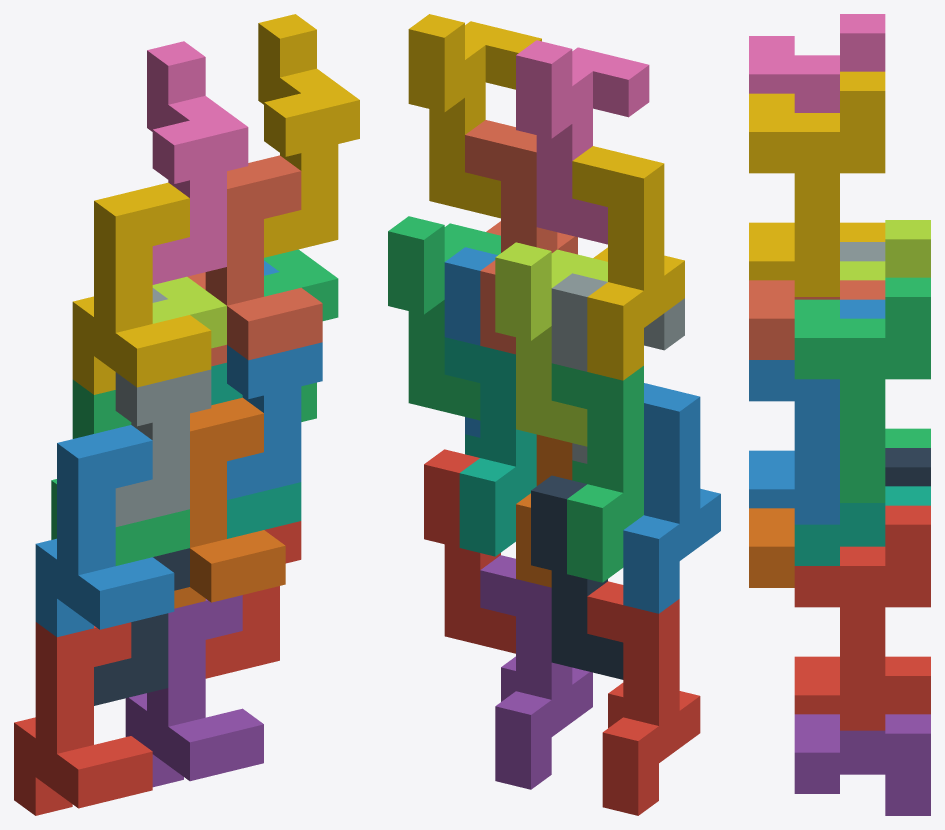
The model's file is tiling.obj.
3 views of the same model, side by side, from view 1: azimuth 30°, elevation 25°; view 2: azimuth 150°, elevation 25°; view 3: azimuth 270°, elevation 25° (orthographic). The views are drawn at different scales.
Visible parts, largest first — view 1: copy_1_domain_2, copy_1_domain_4, copy_1_domain_1, copy_2_domain_8, copy_2_domain_4, copy_1_domain_5, copy_1_domain_8, copy_1_domain_6, copy_2_domain_2, copy_2_domain_6, copy_1_domain_3, copy_2_domain_5 (+4 smaller); view 2: copy_1_domain_4, copy_1_domain_1, copy_2_domain_4, copy_2_domain_8, copy_1_domain_2, copy_1_domain_3, copy_1_domain_5, copy_1_domain_7, copy_2_domain_7, copy_2_domain_3, copy_1_domain_8, copy_2_domain_1 (+4 smaller); view 3: copy_2_domain_7, copy_2_domain_8, copy_2_domain_5, copy_1_domain_5, copy_2_domain_6, copy_2_domain_4, copy_1_domain_1, copy_1_domain_7, copy_1_domain_8, copy_1_domain_6, copy_1_domain_4, copy_2_domain_3 (+4 smaller).
Boxes of the visible parts, x1,y1,x2,y2 form: copy_1_domain_2: (35,425,174,637); copy_1_domain_4: (72,182,211,394); copy_1_domain_1: (14,622,152,815); copy_2_domain_8: (258,14,359,257); copy_2_domain_4: (147,41,248,284); copy_1_domain_5: (125,595,263,787); copy_1_domain_8: (187,155,322,366); copy_1_domain_6: (174,397,285,608); copy_2_domain_2: (115,288,211,526); copy_2_domain_6: (227,260,322,499); copy_1_domain_3: (51,379,189,565); copy_2_domain_5: (205,521,301,678); copy_1_domain_4: (572,146,684,380); copy_1_domain_1: (587,581,700,815); copy_2_domain_4: (516,40,649,244); copy_2_domain_8: (408,14,541,218); copy_1_domain_2: (623,383,720,613); copy_1_domain_3: (551,363,643,582); copy_1_domain_5: (480,555,592,789); copy_1_domain_7: (444,337,536,556); copy_2_domain_7: (388,216,500,420); copy_2_domain_3: (495,242,607,446); copy_1_domain_8: (465,120,577,354); copy_2_domain_1: (531,475,623,679); copy_2_domain_7: (794,277,930,502); copy_2_domain_8: (749,71,885,296); copy_2_domain_5: (794,505,930,730); copy_1_domain_5: (794,714,930,815); copy_2_domain_6: (749,299,885,524); copy_2_domain_4: (749,14,885,112); copy_1_domain_1: (794,656,930,714); copy_1_domain_7: (794,486,930,565); copy_1_domain_8: (749,280,885,359); copy_1_domain_6: (749,508,794,587); copy_1_domain_4: (749,222,885,280); copy_2_domain_3: (840,220,930,280).
Bounding box in the file's own units: 7 × 19 × 4.
